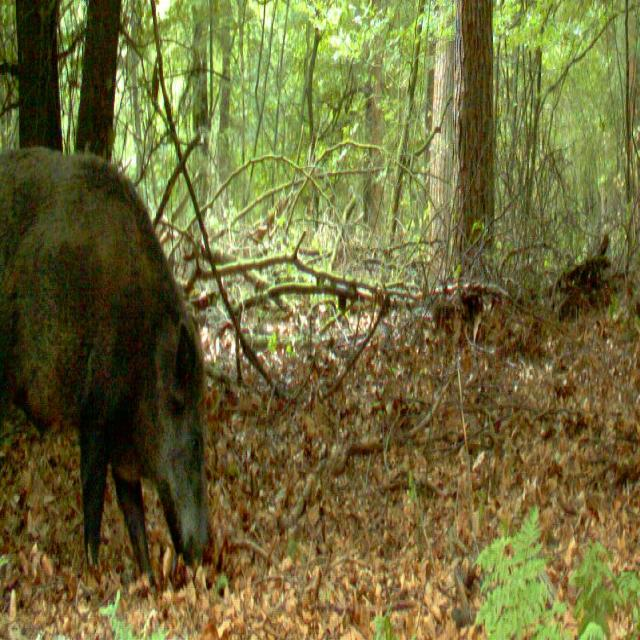pig: (0, 38, 224, 640)
